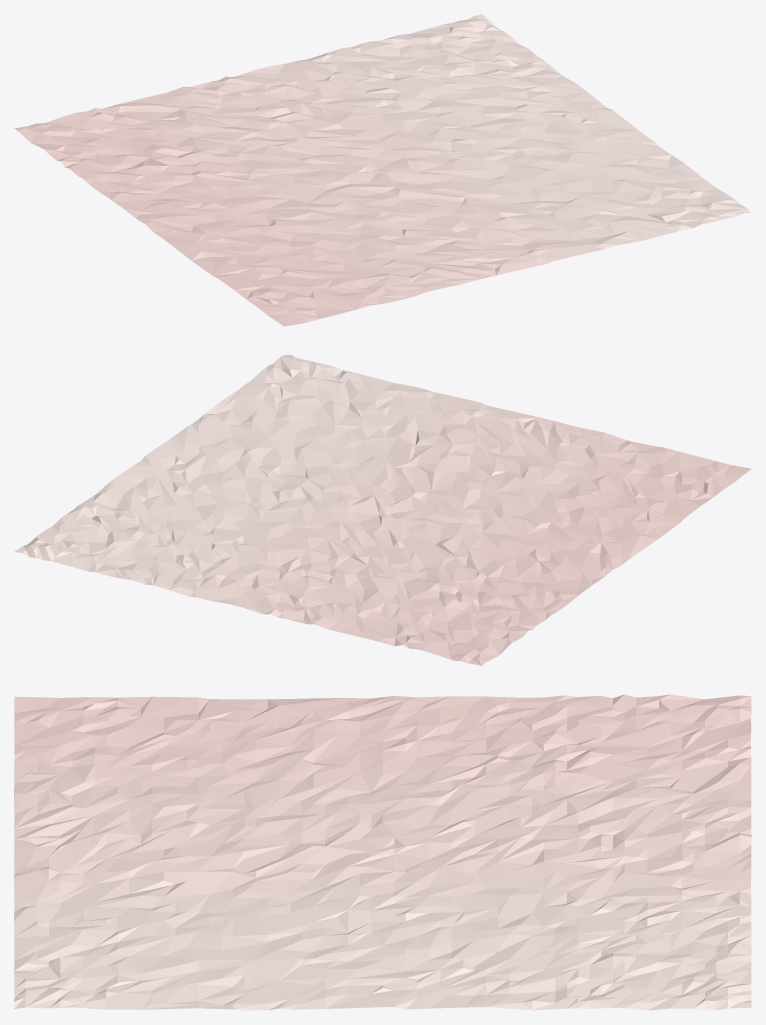
File: Terrain_1.fbx
The picture shows the model from 3 angles, top to bottom: view 1: azimuth 30°, elevation 25°; view 2: azimuth 150°, elevation 25°; view 3: azimuth 270°, elevation 25°; orthographic projection. The views are drawn at different scales.
Visible parts, largest first — view 1: Mesh; view 2: Mesh; view 3: Mesh.
Boxes of the visible parts, x1=… form: Mesh: x1=14, y1=14, x2=751, y2=326; Mesh: x1=14, y1=355, x2=751, y2=665; Mesh: x1=14, y1=694, x2=751, y2=1010.
Bounding box in the file's own units: 200 × 2.7 × 200.
1 material, 1 textured.
